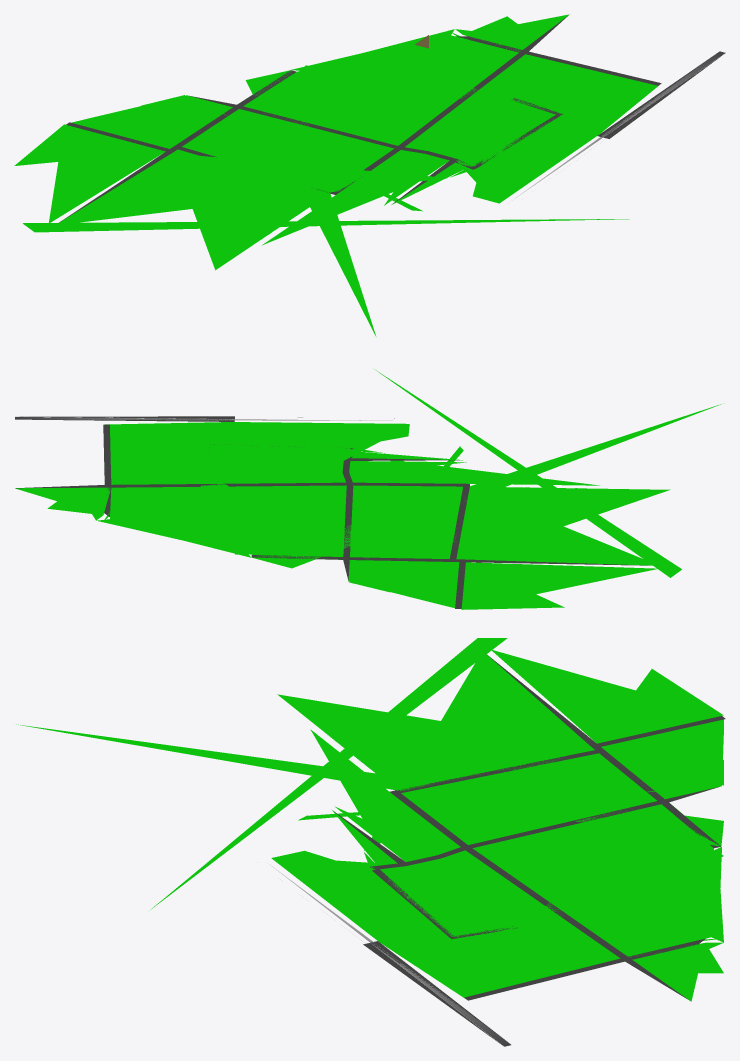
3 views of the same model, one above another, from view 1: azimuth 30°, elevation 25°; view 2: azimuth 150°, elevation 25°; view 3: azimuth 270°, elevation 25° (orthographic). The views are drawn at different scales.
Size of the model in its own units: 403 by 7.5 by 296.
